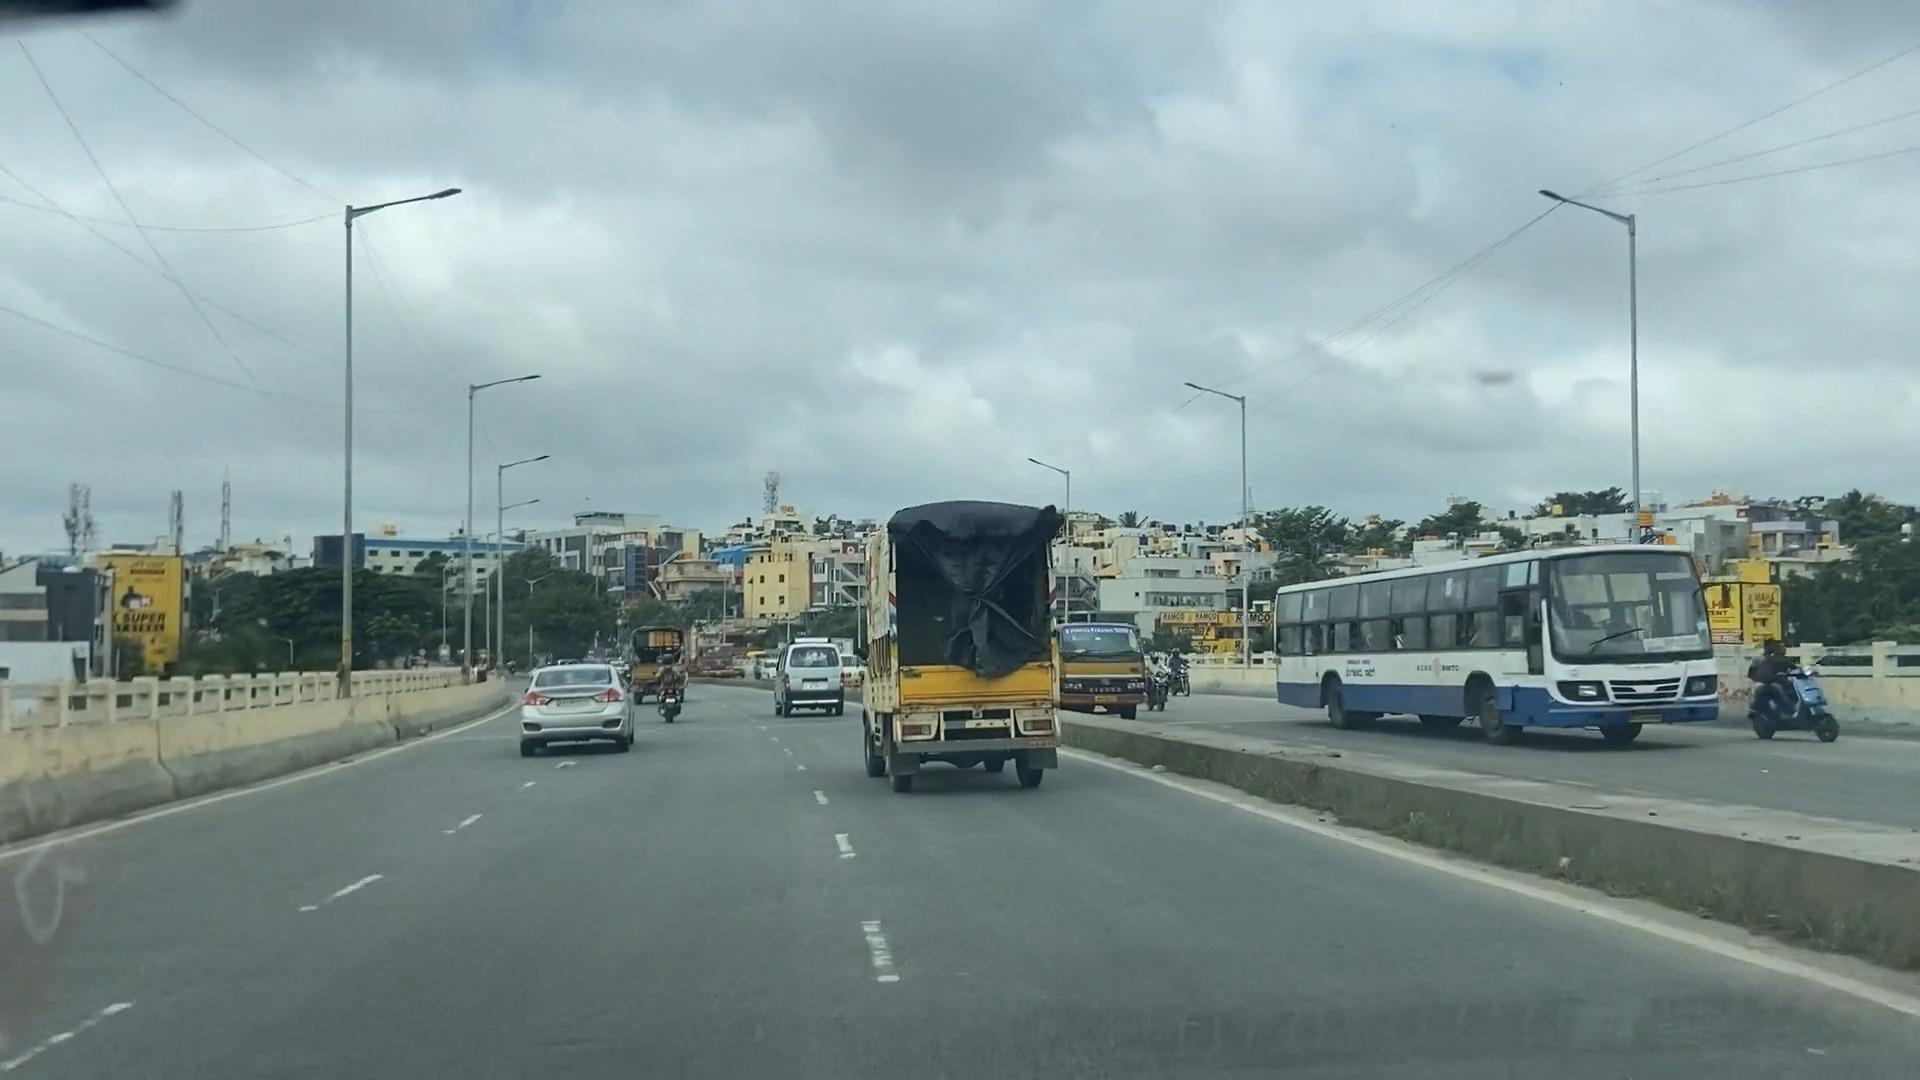HMV: (1271, 534, 1729, 767), (857, 488, 1081, 791)
